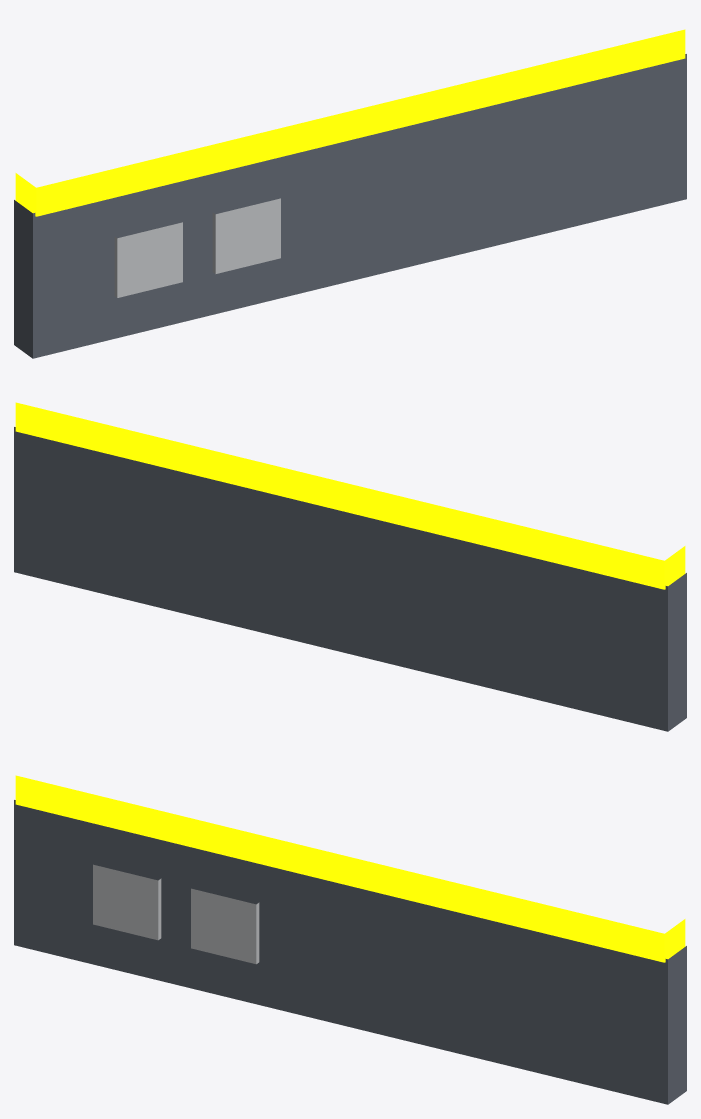
The model's file is ext_street_blade_01.glb.
3 renders of one model, top to bottom at view 1: azimuth 30°, elevation 25°; view 2: azimuth 150°, elevation 25°; view 3: azimuth 330°, elevation 25°, orthographic.
Visible parts, largest first — view 1: Blade, Edge, Glyph; view 2: Blade, Edge; view 3: Blade, Edge, Glyph.
Part boxes in pixels (x1=…): Blade: x1=14, y1=54, x2=686, y2=358; Edge: x1=15, y1=29, x2=685, y2=216; Glyph: x1=114, y1=198, x2=280, y2=297; Blade: x1=14, y1=427, x2=686, y2=731; Edge: x1=15, y1=402, x2=685, y2=589; Blade: x1=14, y1=800, x2=686, y2=1104; Edge: x1=15, y1=775, x2=685, y2=962; Glyph: x1=93, y1=864, x2=259, y2=964.
Size of the model in its own units: 0.8 by 0.2 by 0.048.
